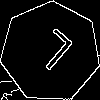L: (25, 27, 75, 80)
